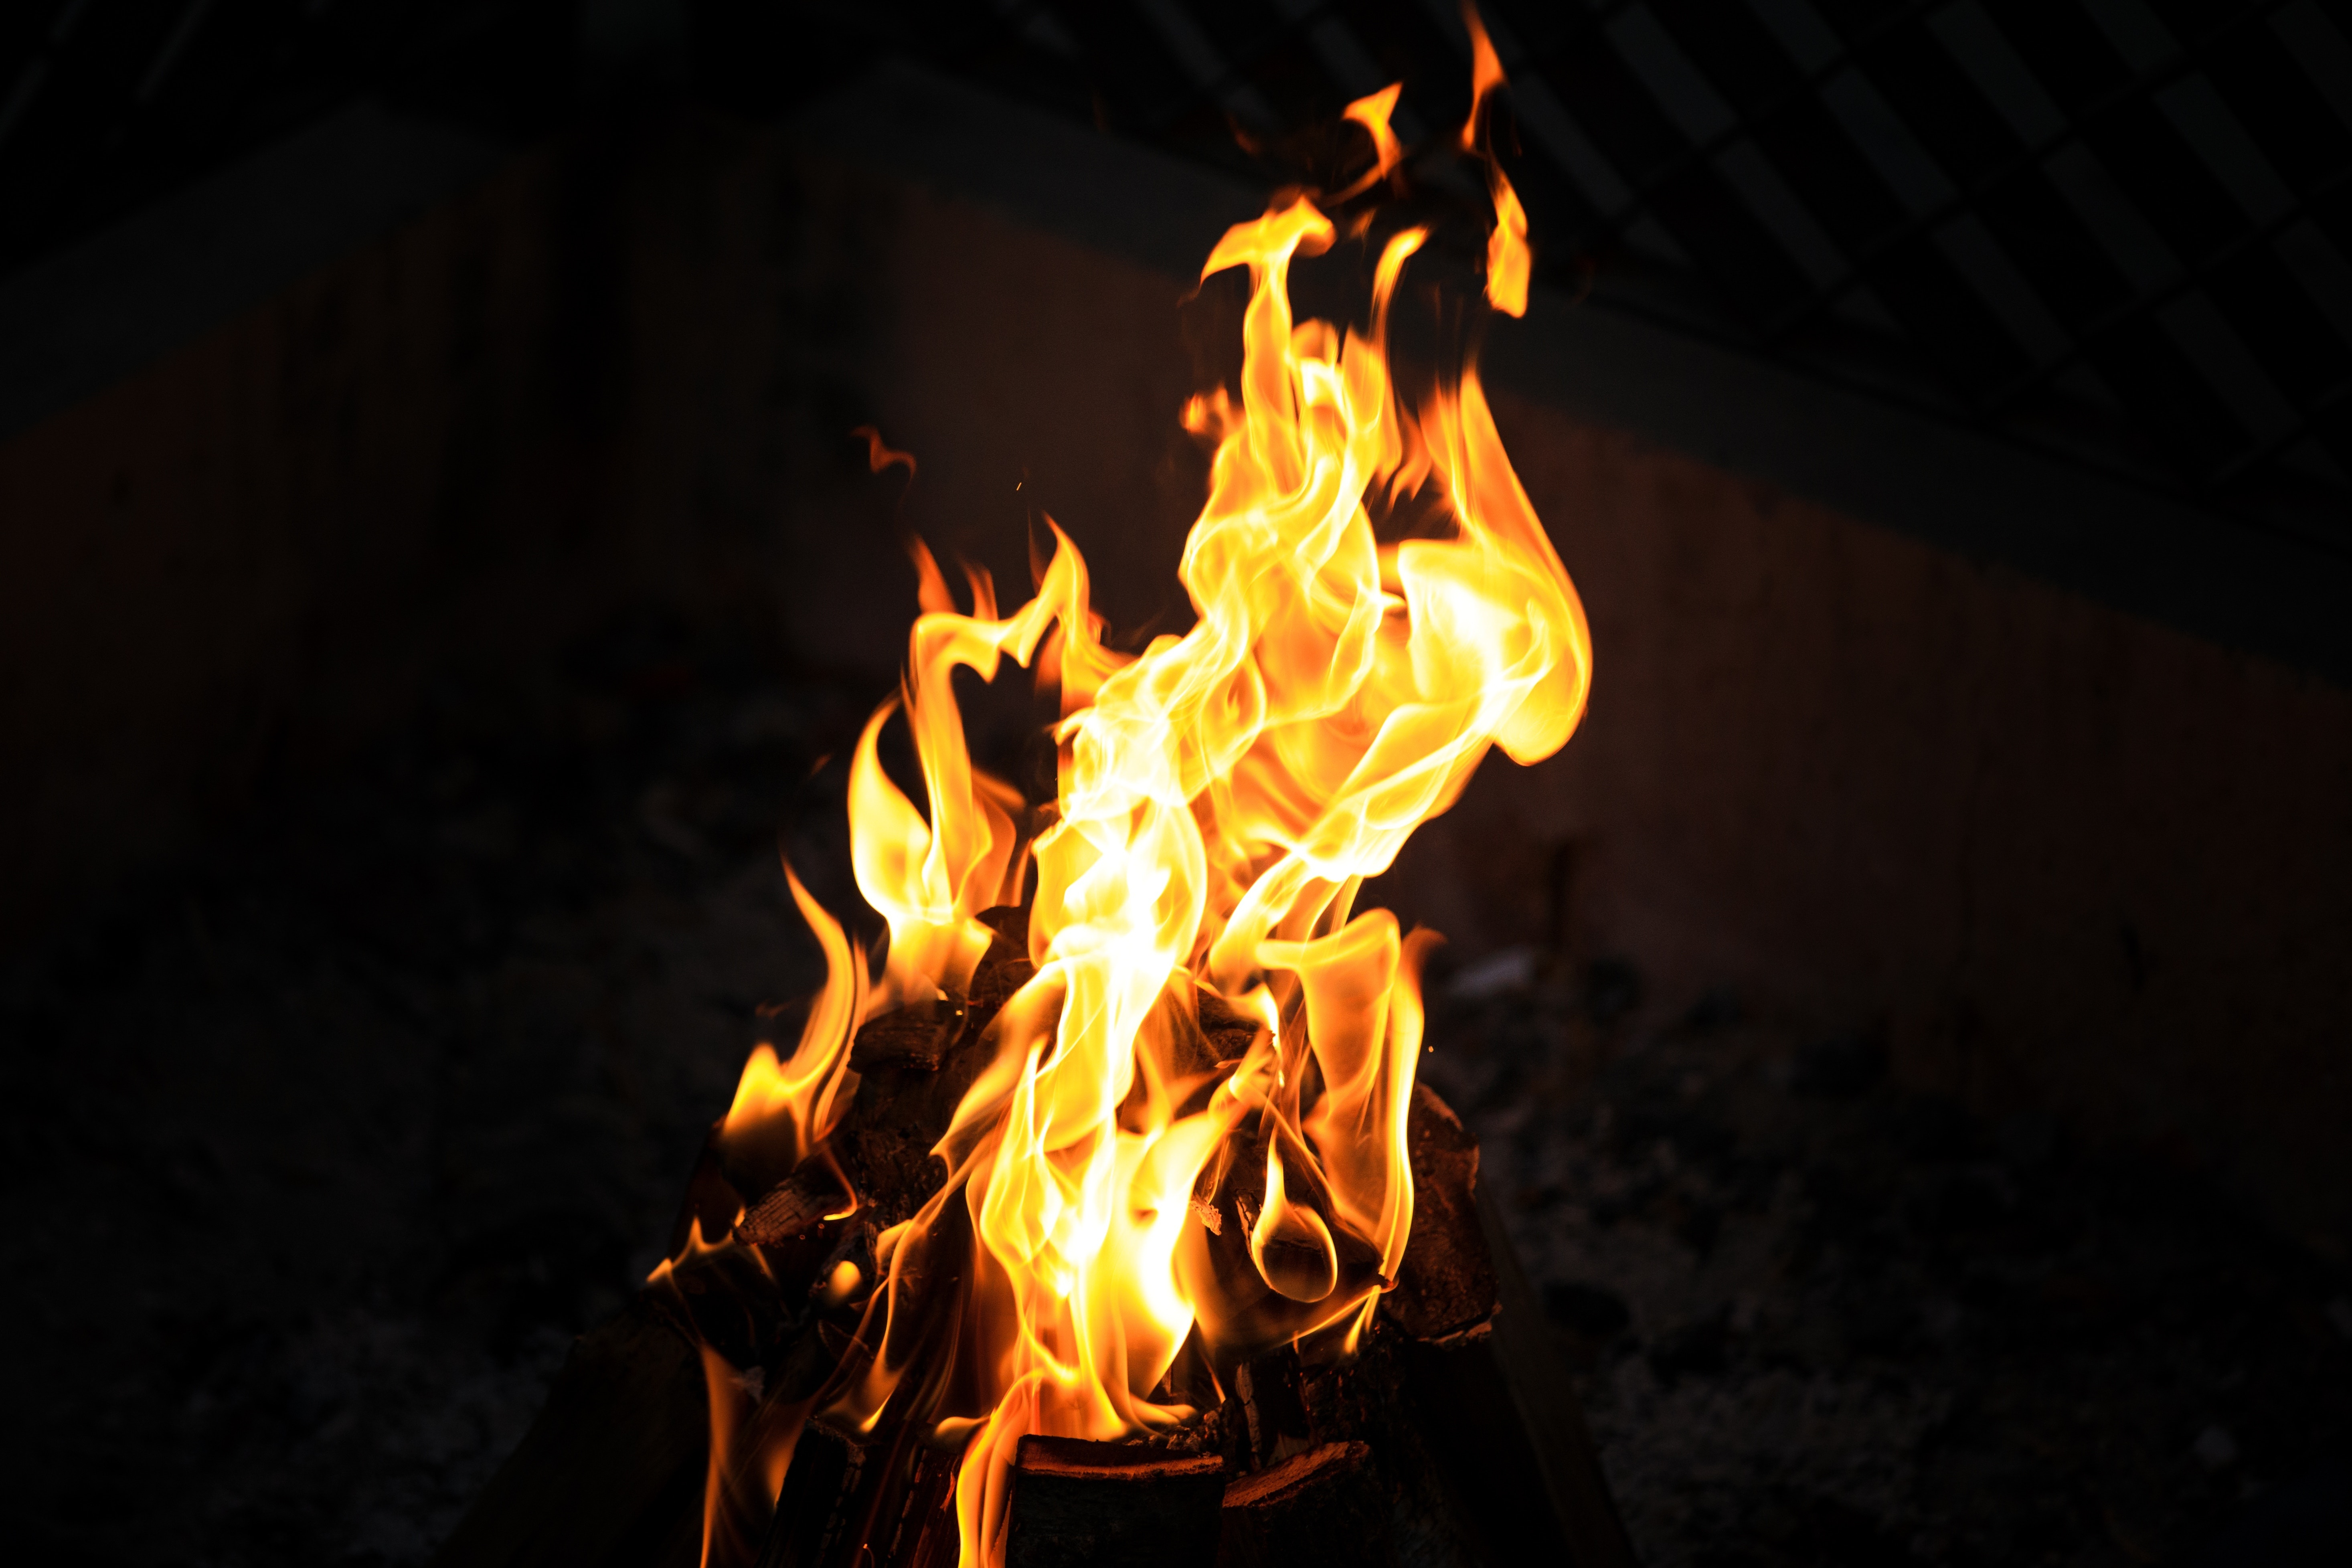fire: (703, 59, 1605, 1477)
